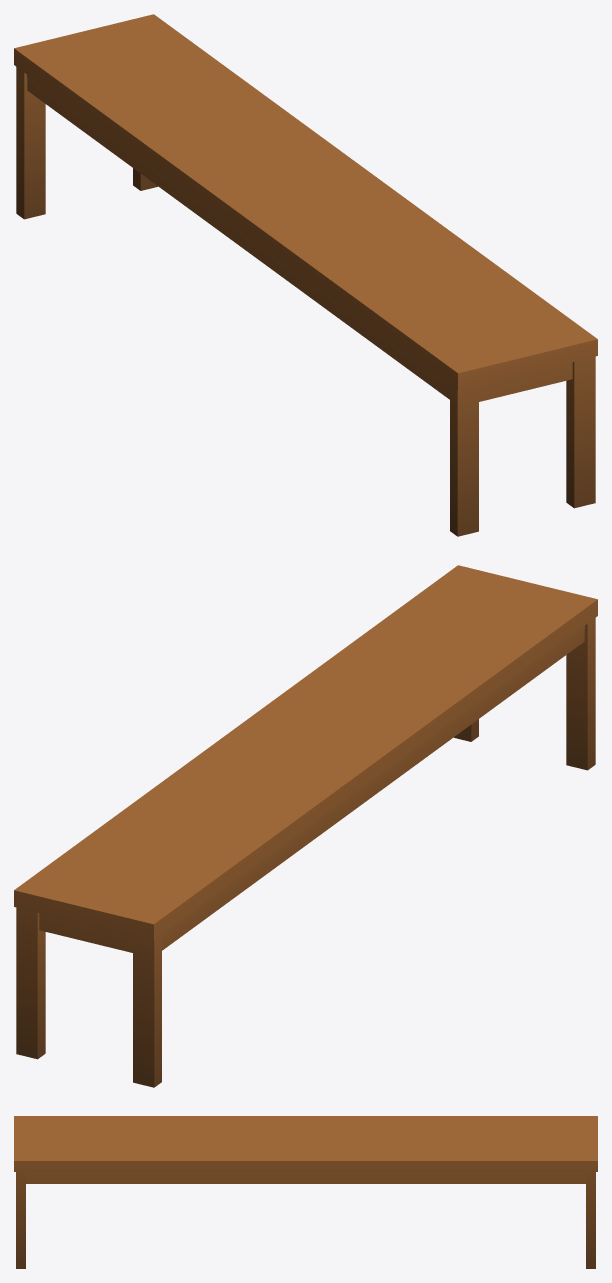
Rendered from Prop_Bench_01.obj.
3 views of the same model, one above another, from view 1: azimuth 30°, elevation 25°; view 2: azimuth 150°, elevation 25°; view 3: azimuth 270°, elevation 25° (orthographic). The views are drawn at different scales.
Visible parts, largest first — view 1: Prop_Bench_01; view 2: Prop_Bench_01; view 3: Prop_Bench_01.
Part boxes in pixels (<box>): Prop_Bench_01: <box>14,14,597,536</box>; Prop_Bench_01: <box>14,565,597,1087</box>; Prop_Bench_01: <box>14,1116,597,1268</box>.
Size of the model in its own units: 0.4 by 0.45 by 2.2.
Materials: 1 (1 with a texture image).
